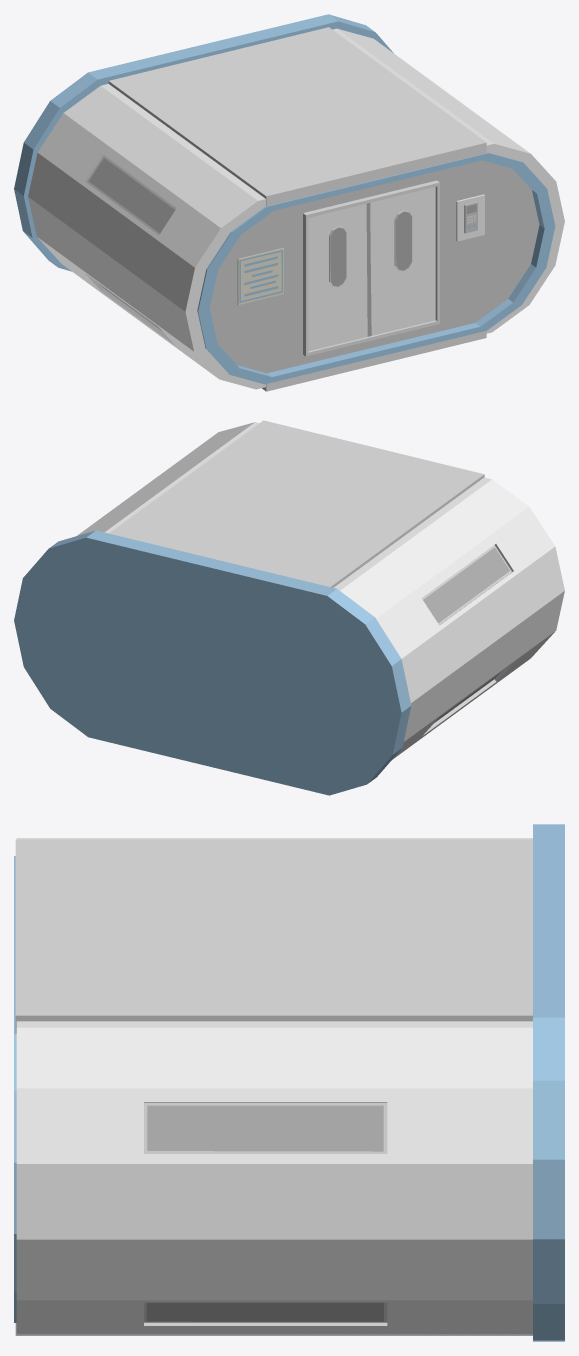
The picture shows the model from 3 angles, top to bottom: view 1: azimuth 30°, elevation 25°; view 2: azimuth 150°, elevation 25°; view 3: azimuth 270°, elevation 25°; orthographic projection. The views are drawn at different scales.
Visible parts, largest first — view 1: Cylinder_8; view 2: Cylinder_8; view 3: Cylinder_8.
Boxes of the visible parts, left/top/right/bottom form: Cylinder_8: left=14, top=14, right=564, bottom=391; Cylinder_8: left=14, top=420, right=564, bottom=795; Cylinder_8: left=14, top=824, right=564, bottom=1341.
Bounding box in the file's own units: 601 × 296 × 452.
